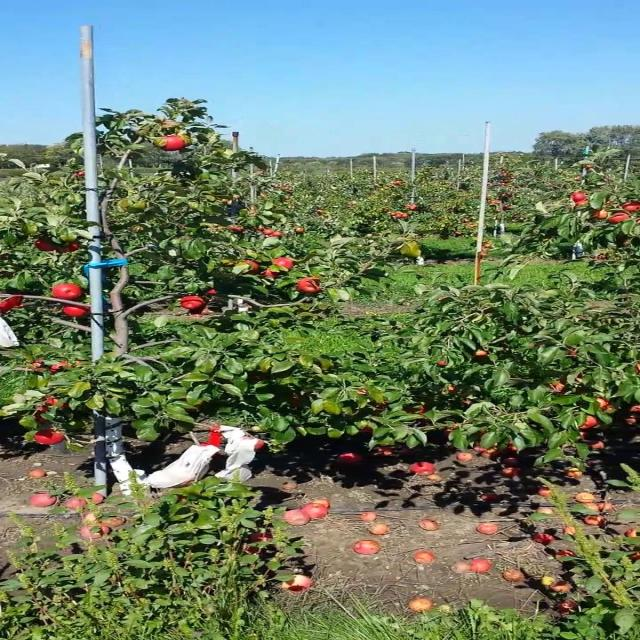apple: (56, 284, 85, 300), (404, 408, 430, 423), (35, 432, 64, 445), (404, 404, 428, 419), (163, 136, 185, 152), (298, 280, 320, 293), (241, 260, 263, 273), (35, 240, 57, 252), (184, 296, 206, 308), (611, 212, 633, 224), (49, 396, 71, 408), (6, 296, 23, 311), (63, 308, 91, 317), (262, 268, 281, 280), (49, 364, 73, 373), (582, 416, 597, 429), (276, 260, 295, 270), (49, 364, 69, 373), (248, 376, 268, 384), (291, 396, 304, 408), (35, 360, 48, 372), (596, 400, 612, 409), (177, 480, 194, 488), (63, 244, 78, 252), (205, 288, 220, 296), (35, 416, 50, 424), (554, 384, 567, 393), (596, 212, 610, 220), (255, 440, 265, 451), (476, 352, 491, 359), (35, 408, 50, 415), (625, 204, 638, 212), (575, 192, 588, 200), (575, 200, 590, 205), (440, 360, 448, 367), (362, 428, 375, 432), (447, 428, 455, 433)
